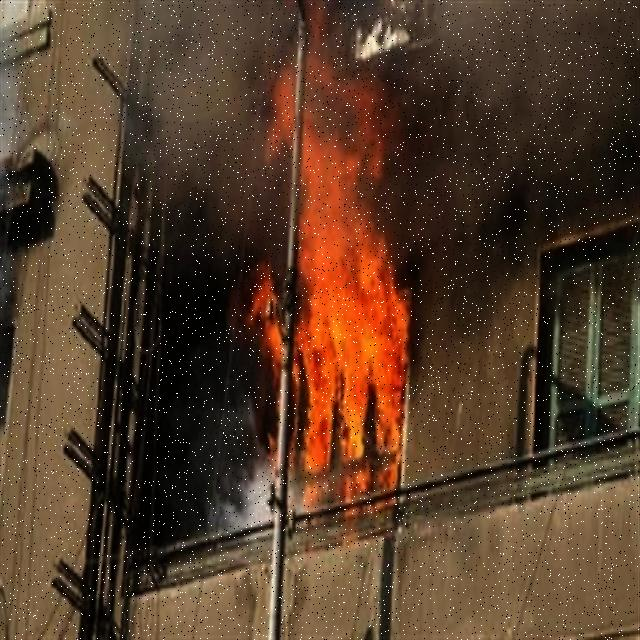fire: (292, 87, 364, 459), (373, 243, 405, 467)
smoke: (423, 14, 609, 233)
